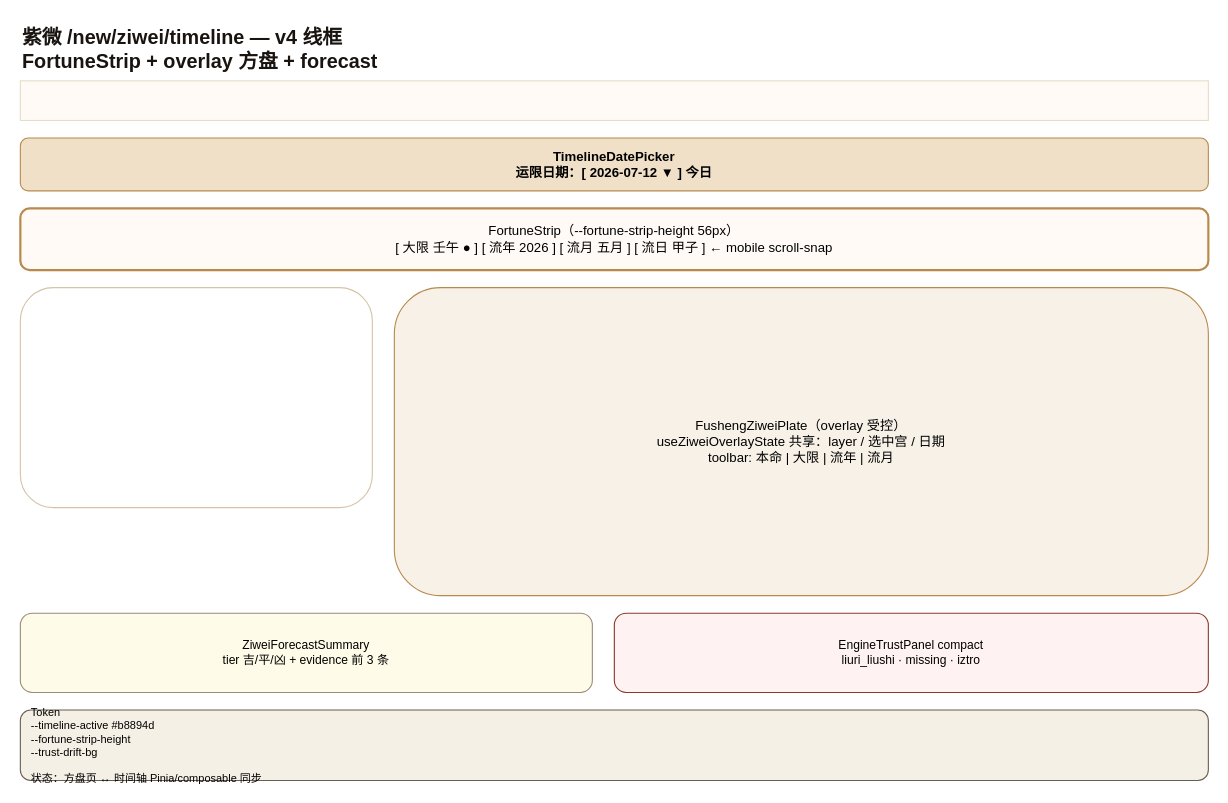
Image size: 1228x803. Some labels were removed from this diagram. The shapes that lost their labels are listed below. From the top down, each one's box as (x1, y1, x2, y2) in pixels, then its label:
(19, 80, 1208, 120): 顶栏：首页 | 档案 | 八字 | 紫微● | 报告
(19, 287, 372, 508): 大运列表（可选中 · 当前高亮 --timeline-active） 1. 壬午 2. 癸未 3. 甲申 …
